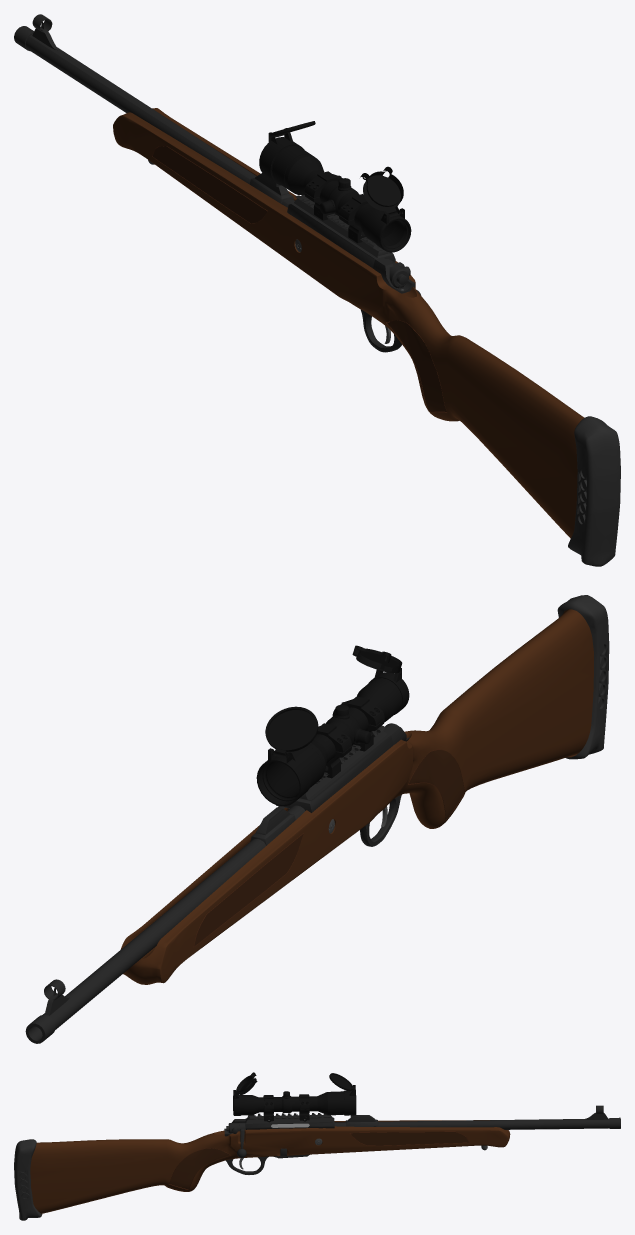
File: sniper_rifle_-_vpo_215.glb
3 renders of one model, top to bottom at view 1: azimuth 30°, elevation 25°; view 2: azimuth 150°, elevation 25°; view 3: azimuth 270°, elevation 25°, orthographic. The views are drawn at different scales.
Parts seen in each view (by area): view 1: Piano.031; view 2: Piano.031; view 3: Piano.031, Piano.030.
Boxes of the visible parts, <box> form: Piano.031: <box>14,14,620,566</box>; Piano.031: <box>25,595,609,1043</box>; Piano.031: <box>14,1072,620,1220</box>; Piano.030: <box>226,1122,246,1157</box>.
Bounding box in the file's own units: 0.6567 × 2.2 × 8.69.
